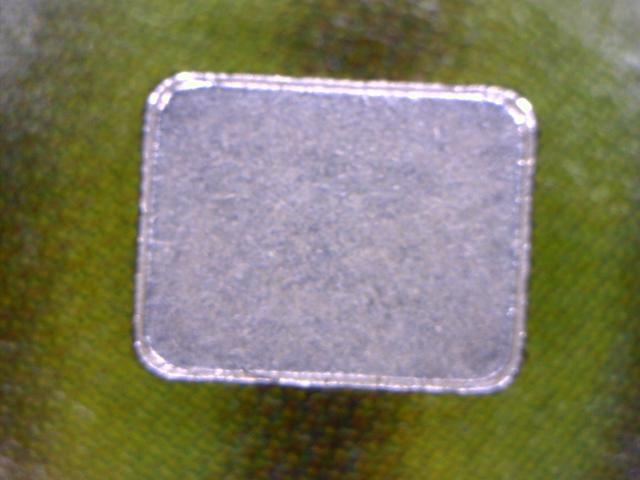nok: (125, 69, 552, 396)
